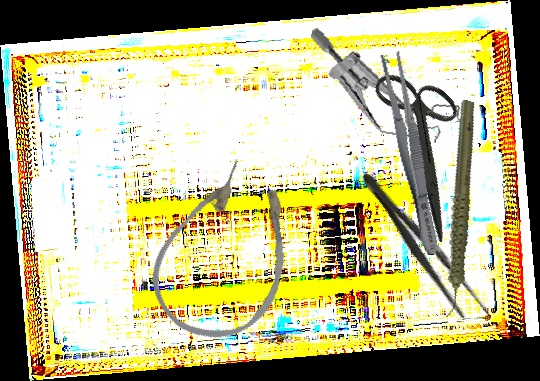Cannula: (134, 145, 320, 359)
Dressing Forceps: (351, 164, 496, 332), (376, 50, 446, 257)
Handpiece: (396, 98, 519, 320)
Iris Scissors: (329, 52, 519, 243)
Speculum: (297, 25, 476, 150)
